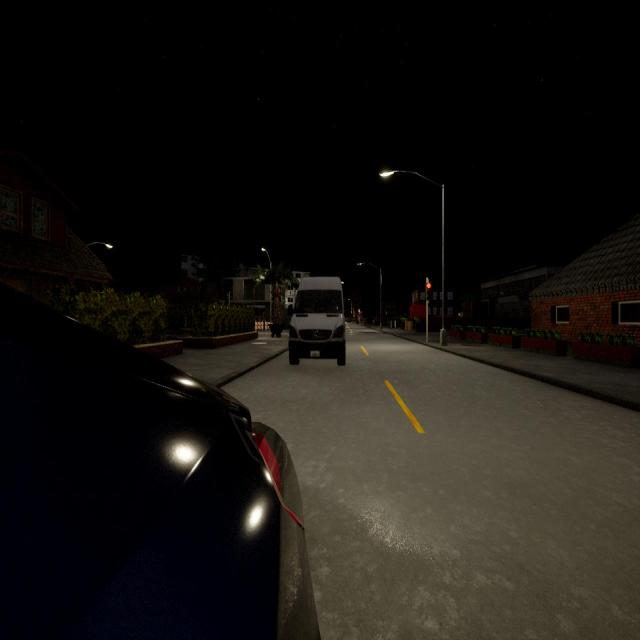Vehicle: (0, 284, 319, 638), (288, 276, 346, 368)
traffic_light: (425, 282, 432, 300)
